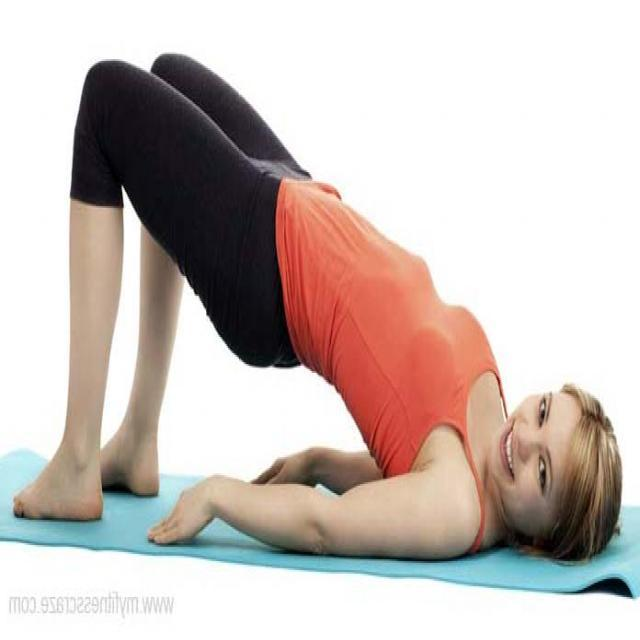yoga-pose bridge: (12, 60, 623, 548)
